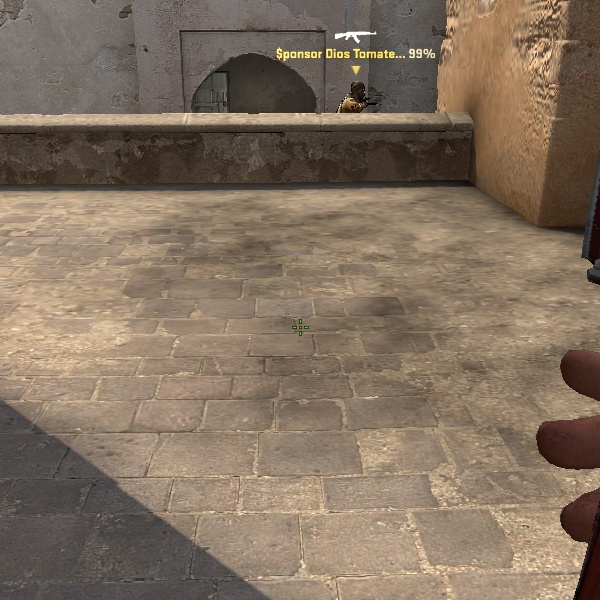t_body: (336, 74, 380, 115)
t_head: (345, 77, 374, 106)
